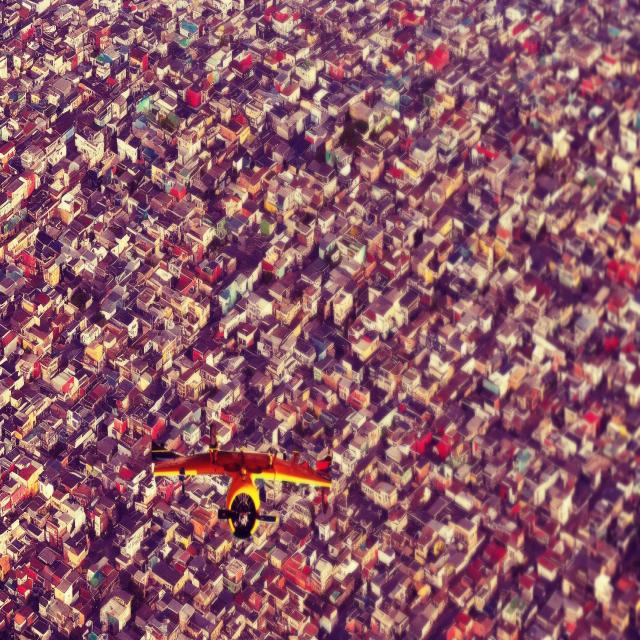airplane: (151, 420, 333, 538)
